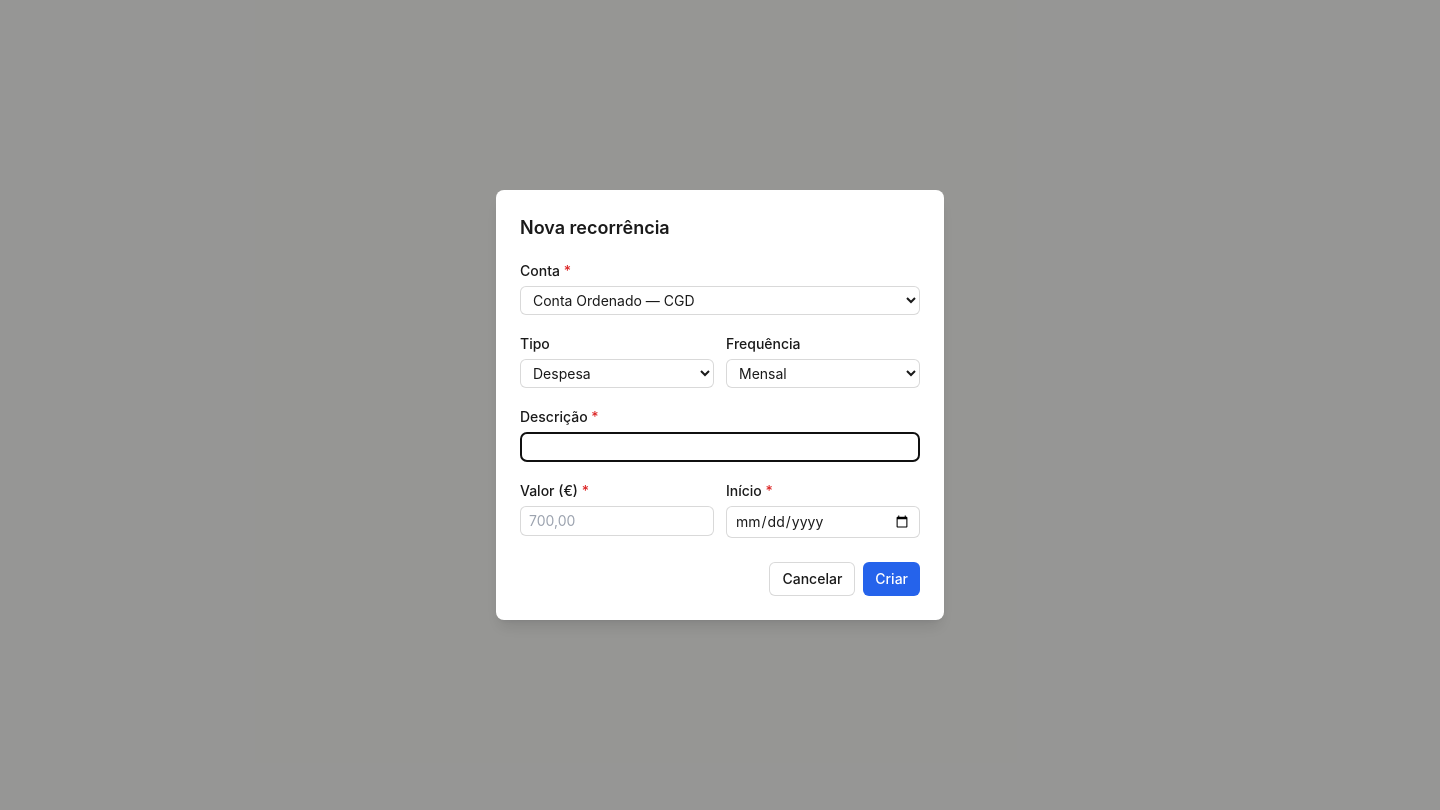
Test: <NewRecurrenceModal> › descrição vazia bloqueia submit e mostra erro — sem POST
Expected: the dropdown named "Conta associada" is enabled, [520, 286, 920, 315]
Click the button "Criar".
click(892, 579)  # box [863, 562, 920, 596]
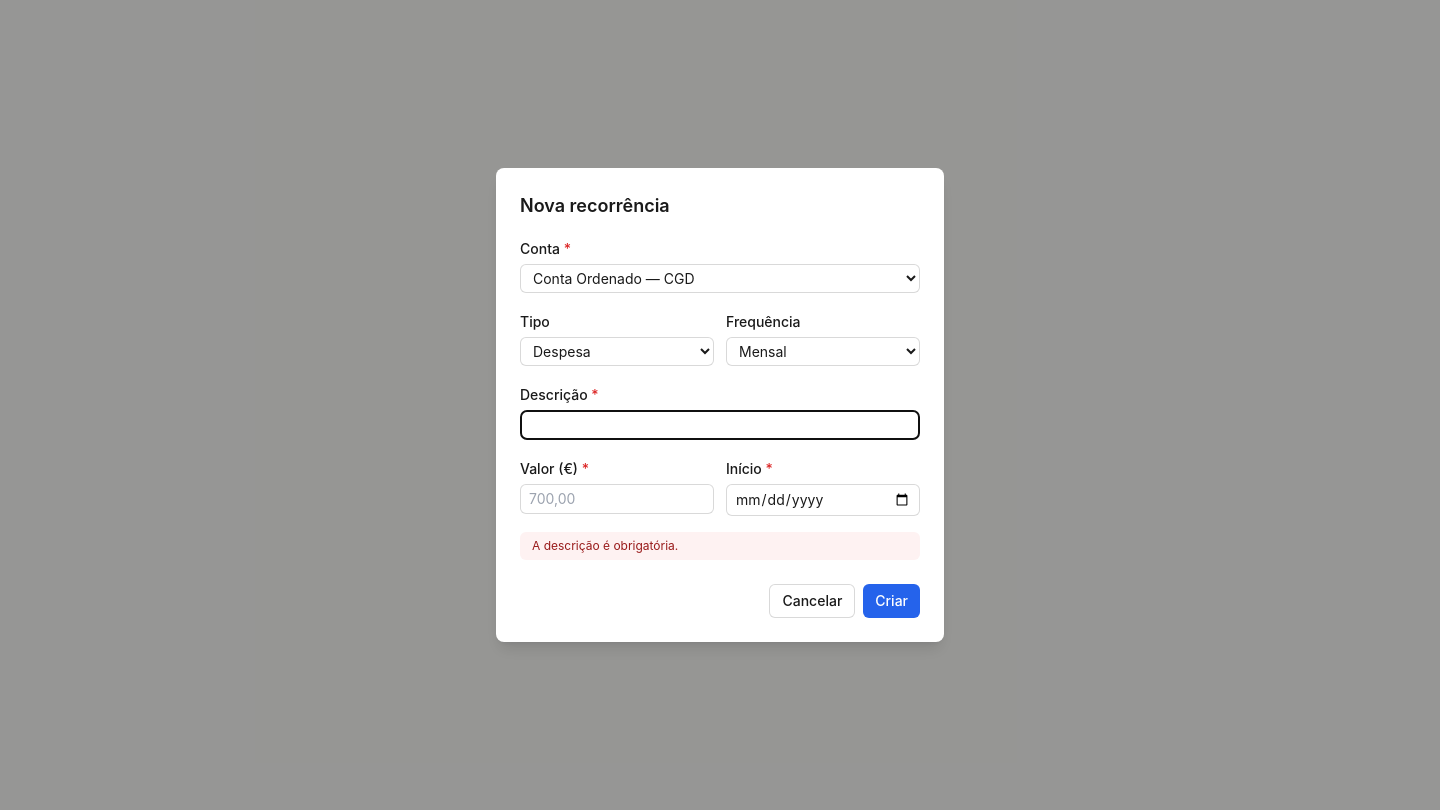
Expected: the message shows "descrição é obrigatória", [532, 538, 678, 553]
